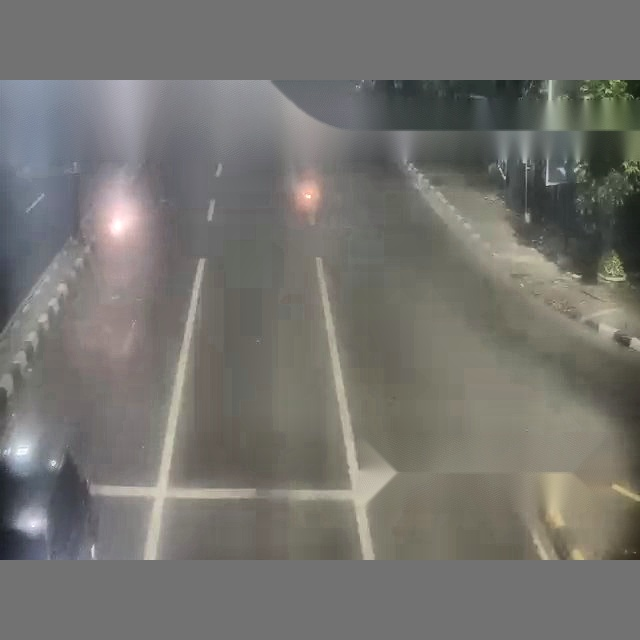Truk: (189, 116, 640, 557)
